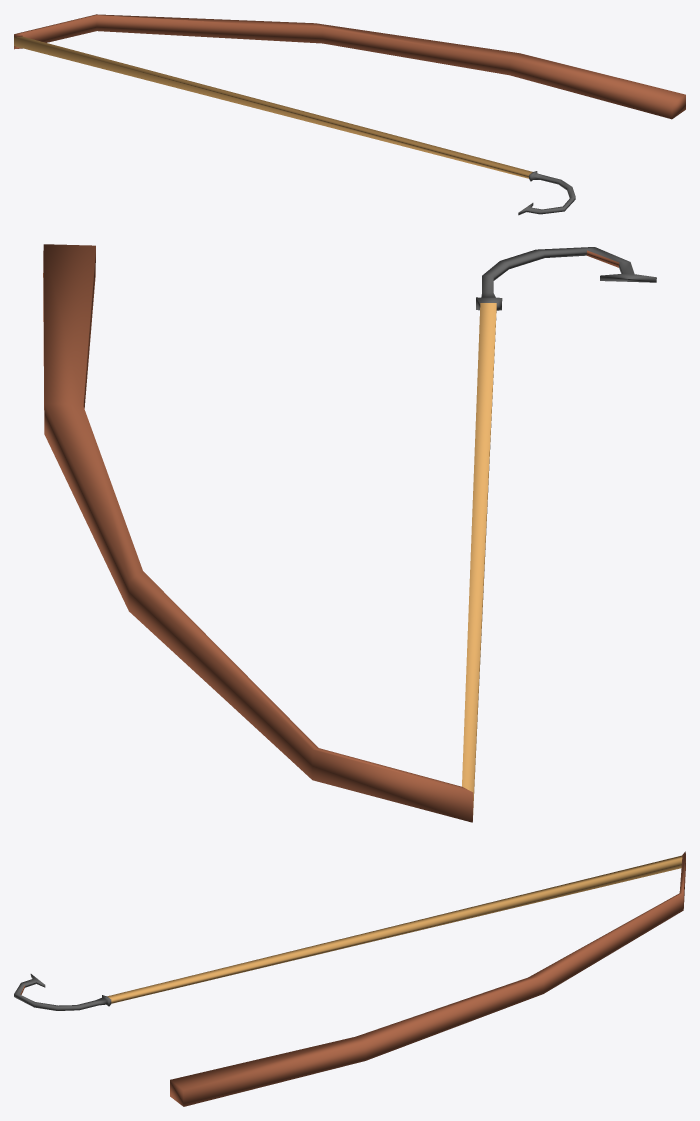
File: fishing_rod.fbx
3 renders of one model, top to bottom at view 1: azimuth 30°, elevation 25°; view 2: azimuth 150°, elevation 25°; view 3: azimuth 270°, elevation 25°, orthographic. The views are drawn at different scales.
Parts seen in each view (by area): view 1: fishing_rod; view 2: fishing_rod; view 3: fishing_rod.
Boxes of the visible parts, box(x1,y1,x2,y2) form: fishing_rod: box(14, 14, 685, 215); fishing_rod: box(43, 244, 656, 822); fishing_rod: box(14, 851, 685, 1106).
Size of the model in its own units: 102 by 3.83 by 121.
